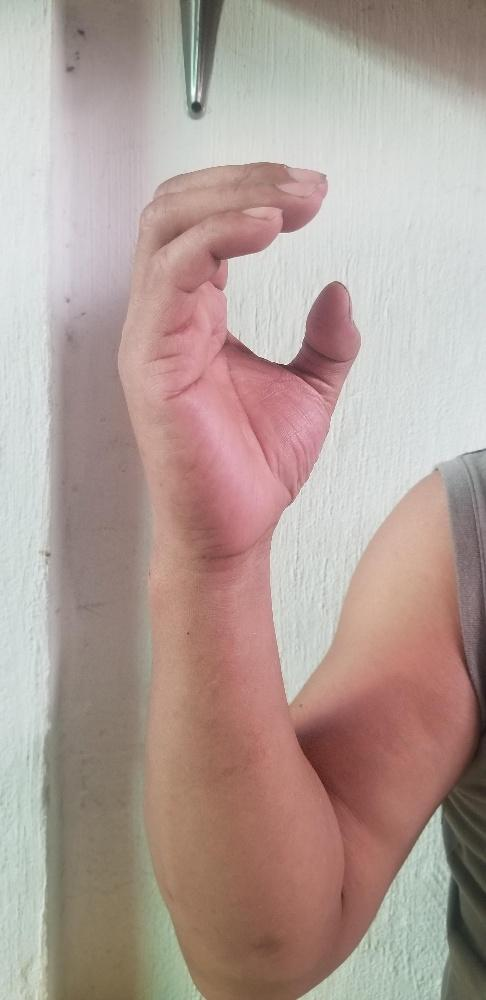c: (115, 162, 364, 544)
